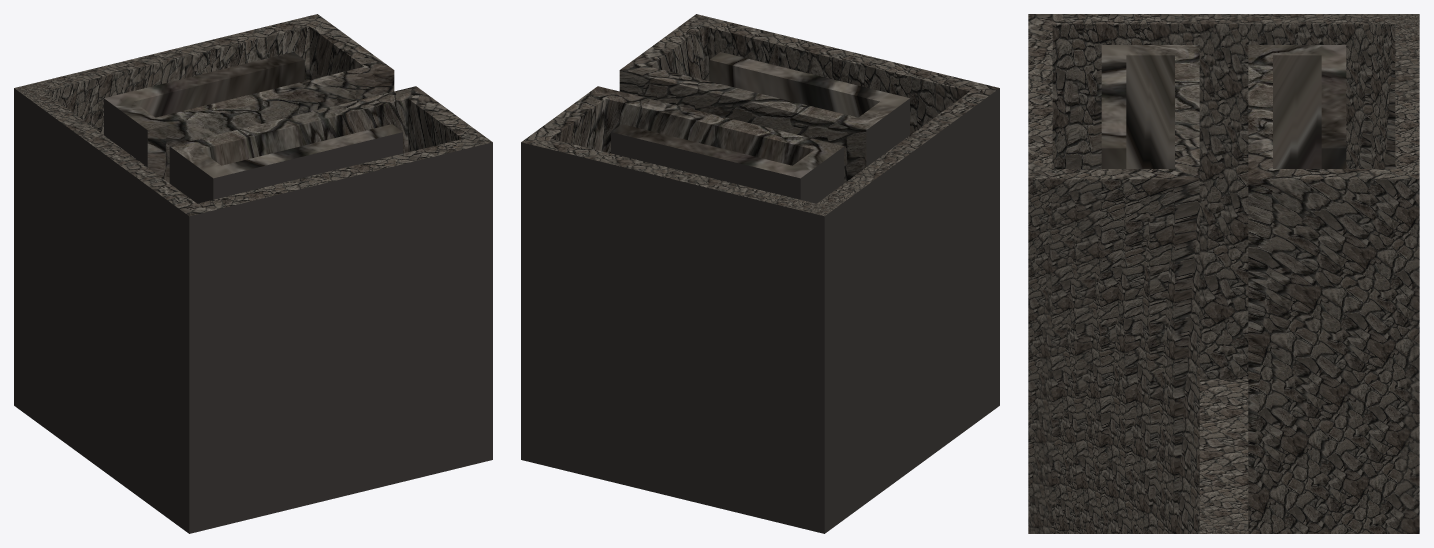
Rendered from DeadEndTempTile3.fbx.
The picture shows the model from 3 angles, left to right: view 1: azimuth 30°, elevation 25°; view 2: azimuth 150°, elevation 25°; view 3: azimuth 270°, elevation 25°; orthographic projection. The views are drawn at different scales.
Visible parts, largest first — view 1: Plane; view 2: Plane; view 3: Plane.
Part boxes in pixels (x1,y1,x2,y2): Plane: (14, 14, 492, 533); Plane: (521, 14, 999, 533); Plane: (1028, 14, 1419, 533).
Bounding box in the file's own units: 1600 × 1600 × 1600.
